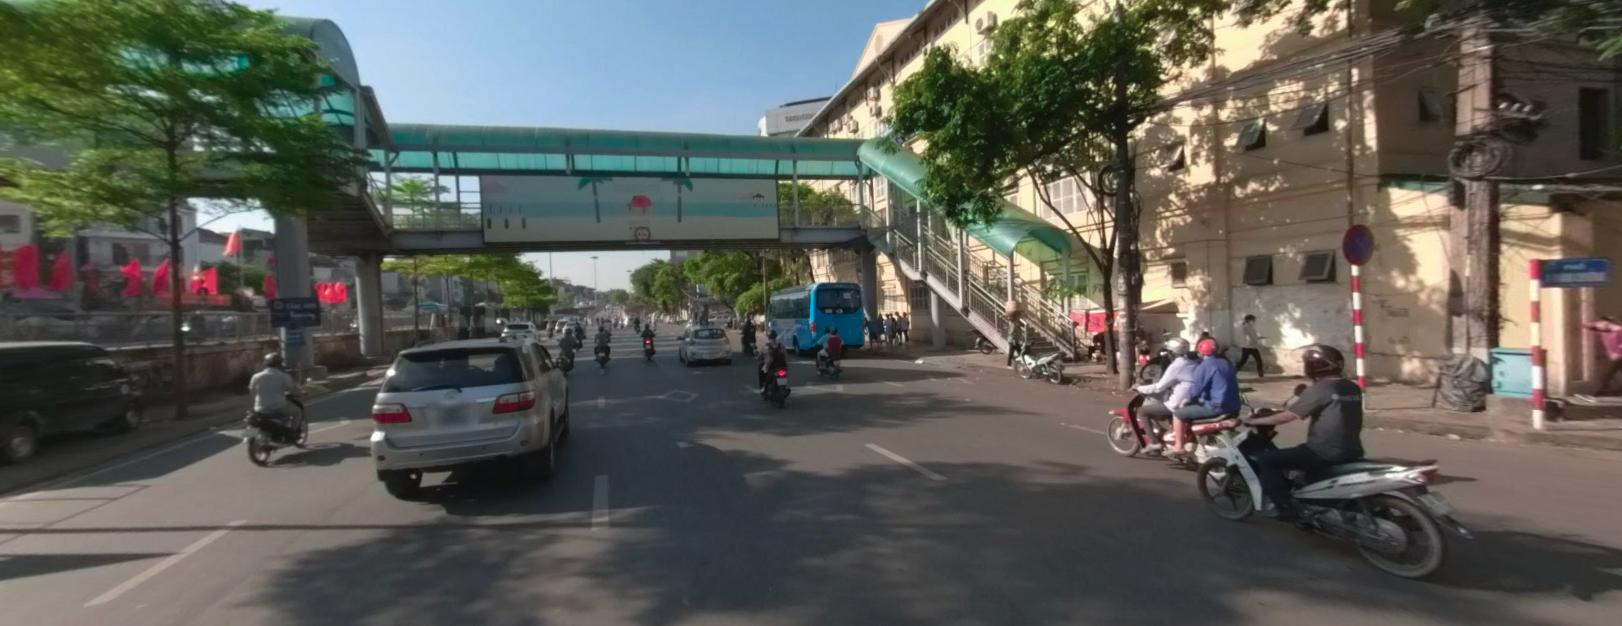Cam con lai: (634, 225, 649, 240)
Cam dung va do: (1342, 223, 1373, 263)
